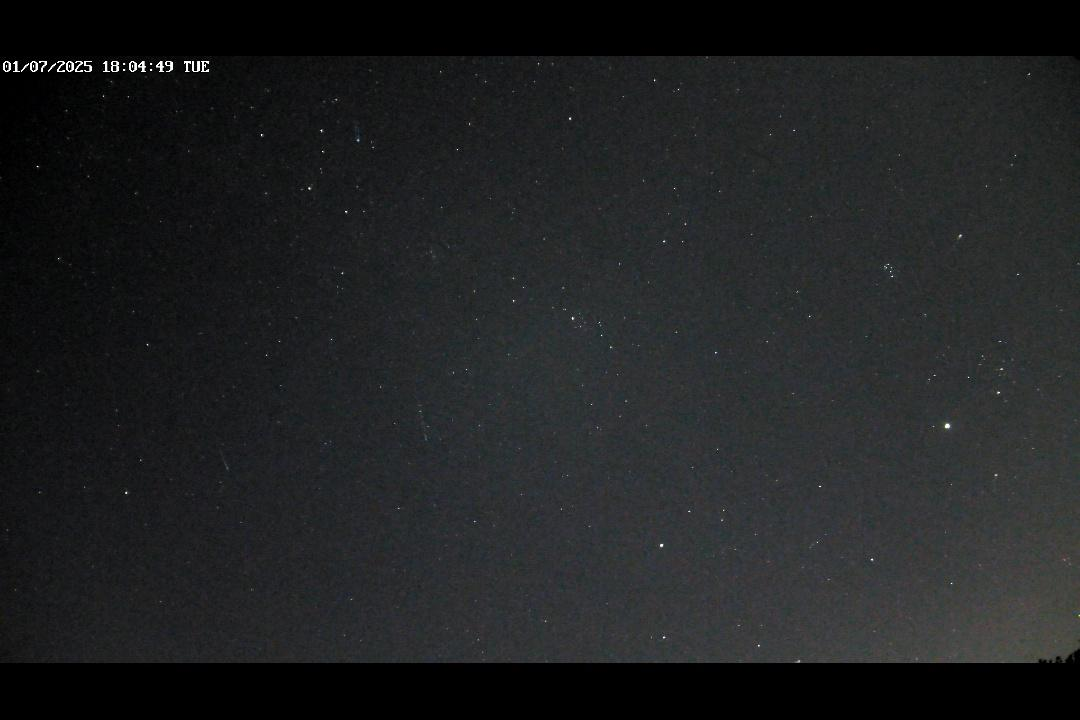Plane: (410, 404, 433, 448), (215, 445, 232, 472)
